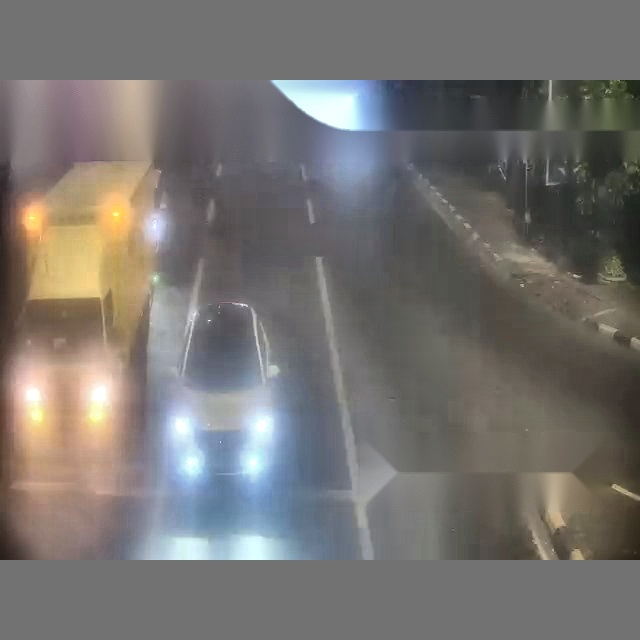Truk: (0, 66, 159, 558)
